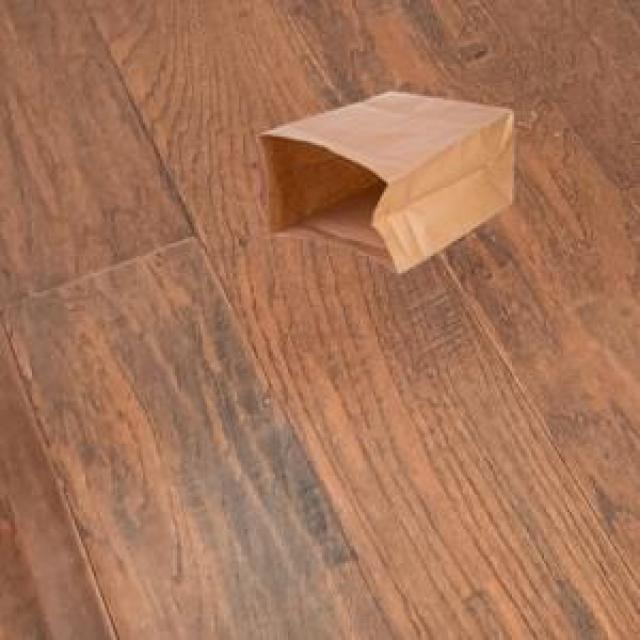paper: (254, 88, 510, 269)
